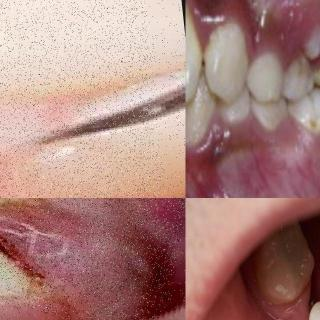Gum Swelling: (0, 198, 161, 320), (186, 0, 240, 46)
plaque: (186, 82, 214, 144), (254, 102, 293, 141)
